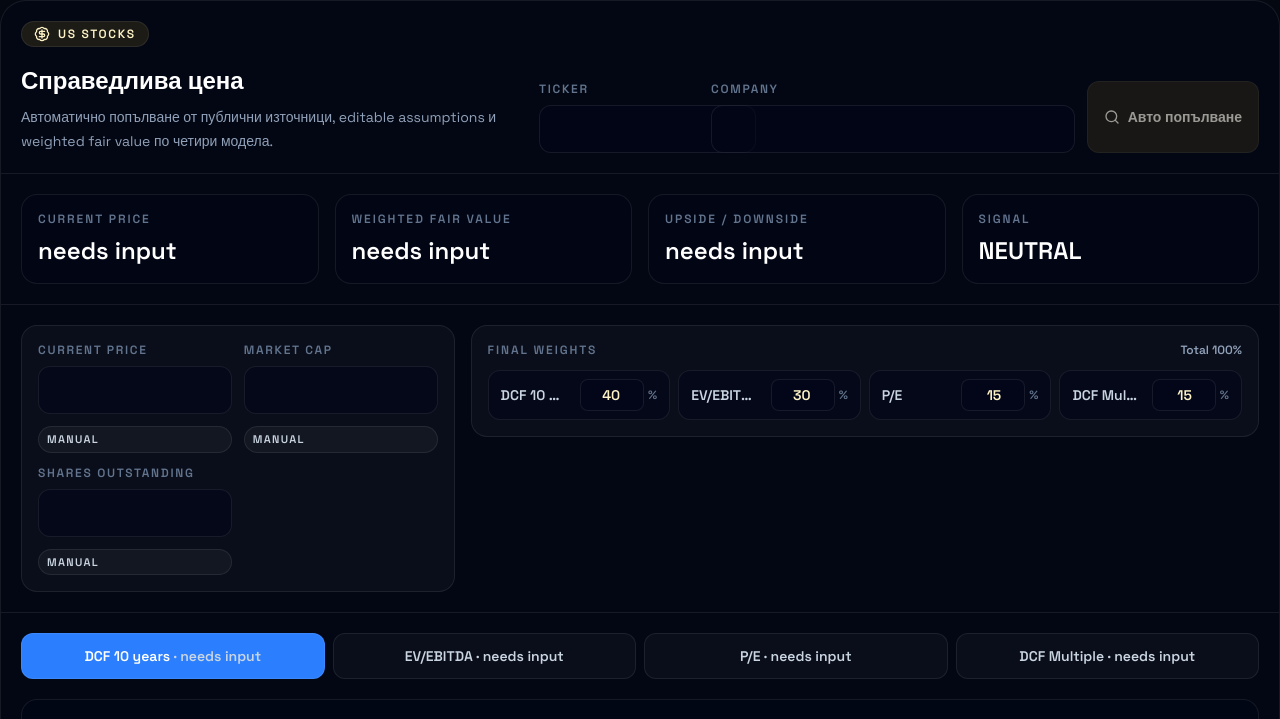
Test: StockValuationPanel › shows collapsible historical FCF calculator only in DCF 10 years
Type "HIST" into the field labelled "Ticker" at (648, 129), box [539,105,756,153]
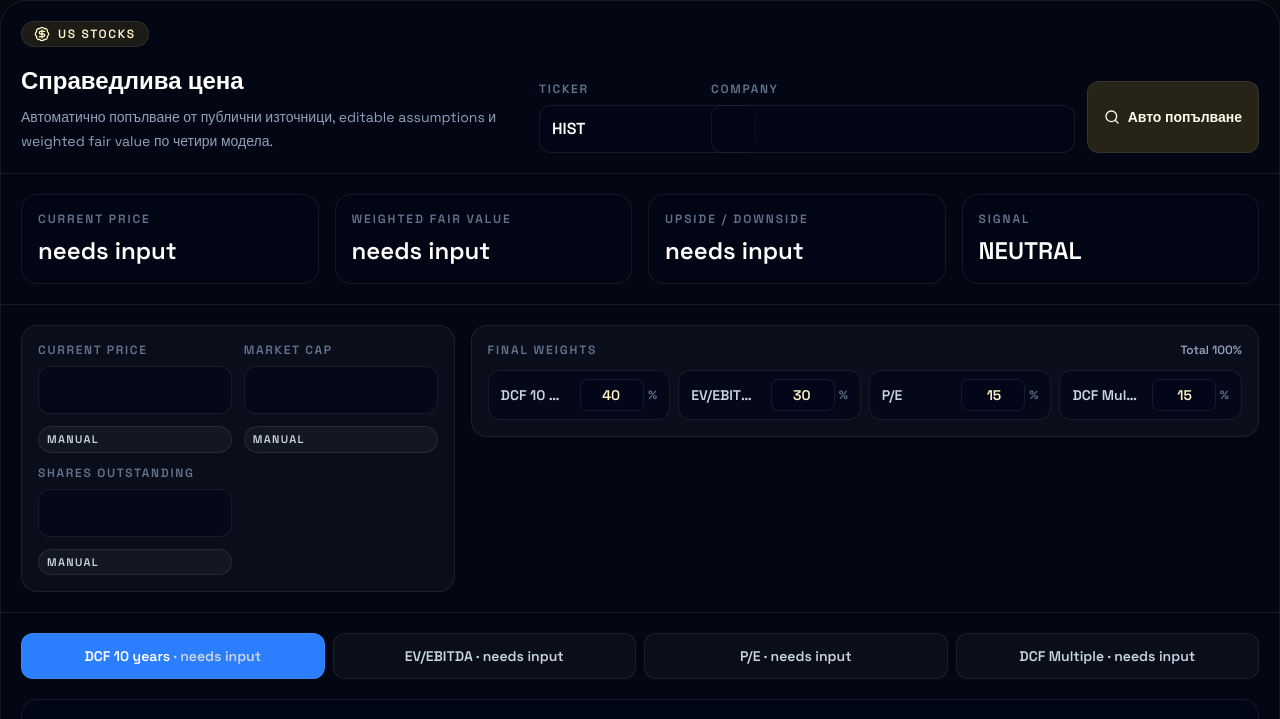
Click the button "Авто попълване" at (1173, 117), box [1087,81,1259,153]
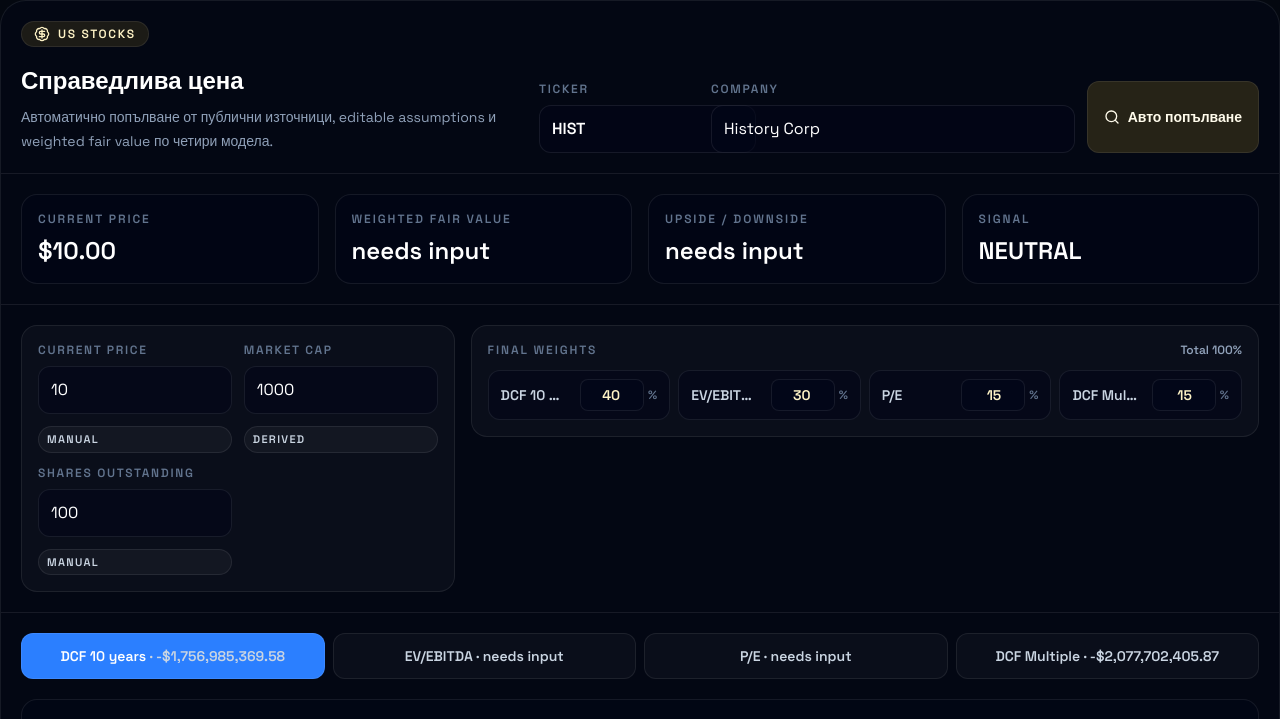
Check: the button "Historical P/E" is not shown
Click the button "P/E · needs input" at (796, 656), box [644,633,948,679]
(page scrolled)
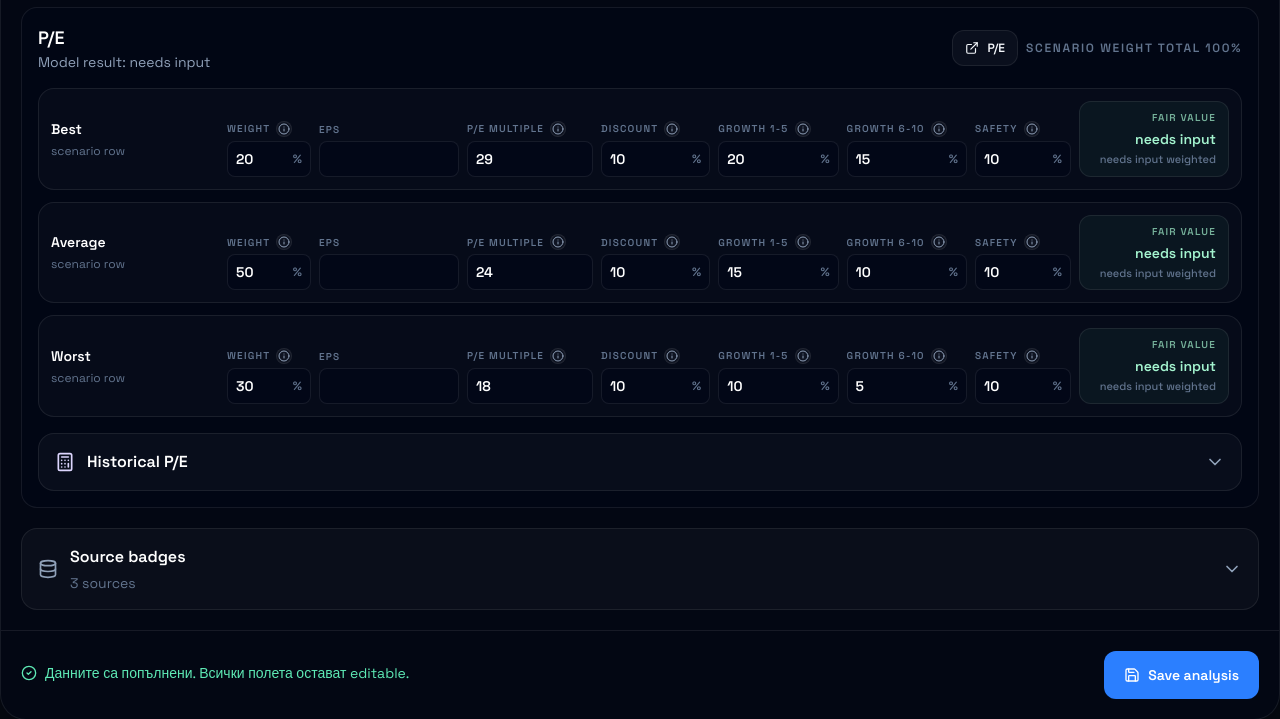
Check: the button "Historical P/E" is shown, box [39,434,1241,490]
